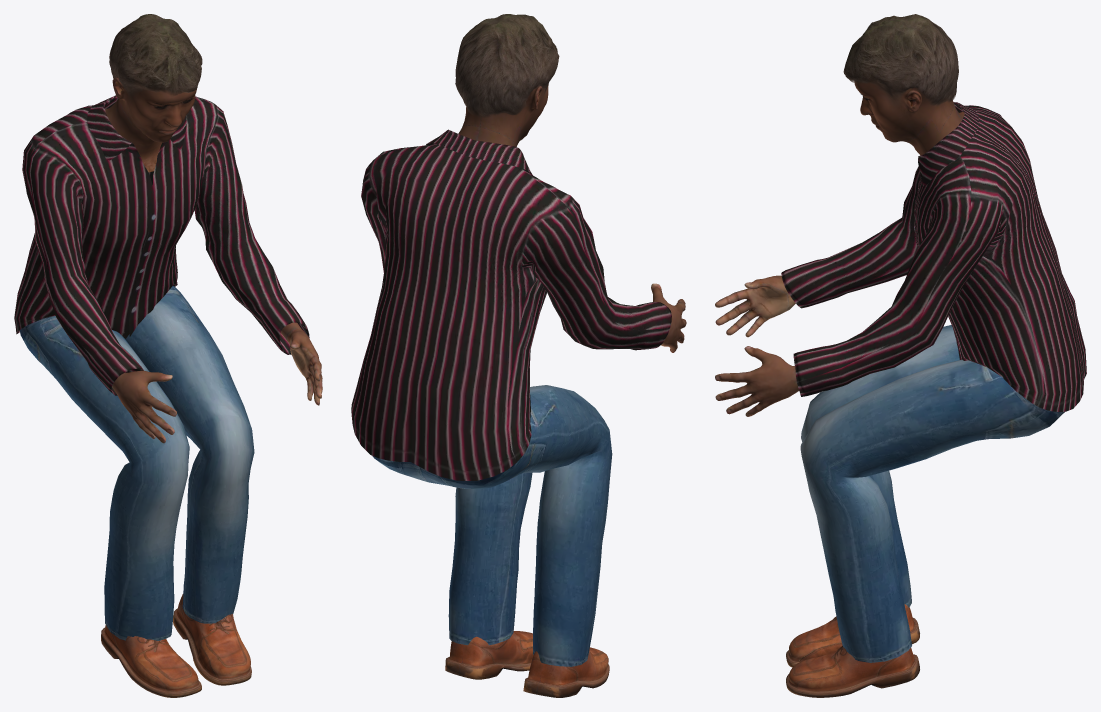
File: uomo-02.glb
3 views of the same model, side by side, from view 1: azimuth 30°, elevation 25°; view 2: azimuth 150°, elevation 25°; view 3: azimuth 270°, elevation 25° (orthographic). The views are drawn at different scales.
Parts seen in each view (by area): view 1: Human.male_casualsuit03, Human, Human.shoes01, Human.short02; view 2: Human.male_casualsuit03, Human.short02, Human.shoes01, Human; view 3: Human.male_casualsuit03, Human, Human.short02, Human.shoes01.
Part boxes in pixels (x1=…): Human.male_casualsuit03: x1=14, y1=95, x2=309, y2=640; Human: x1=105, y1=77, x2=322, y2=443; Human.shoes01: x1=101, y1=594, x2=251, y2=697; Human.short02: x1=109, y1=14, x2=202, y2=98; Human.male_casualsuit03: x1=351, y1=129, x2=671, y2=666; Human.short02: x1=455, y1=14, x2=559, y2=117; Human.shoes01: x1=445, y1=631, x2=609, y2=697; Human: x1=458, y1=84, x2=686, y2=352; Human.male_casualsuit03: x1=781, y1=102, x2=1086, y2=662; Human: x1=715, y1=81, x2=964, y2=416; Human.short02: x1=843, y1=14, x2=958, y2=105; Human.shoes01: x1=786, y1=604, x2=919, y2=697.
Size of the model in its own units: 0.5213 by 1.49 by 0.7683.
12 materials, 12 textured.
